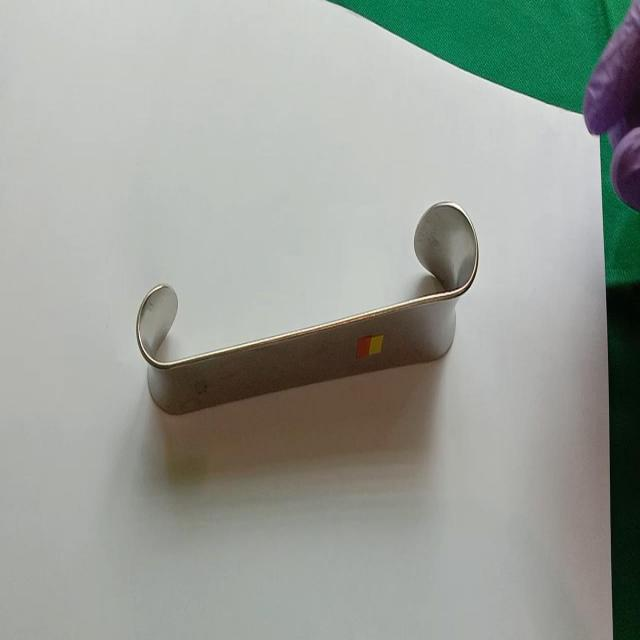CheekRetractor: (134, 194, 483, 418)
